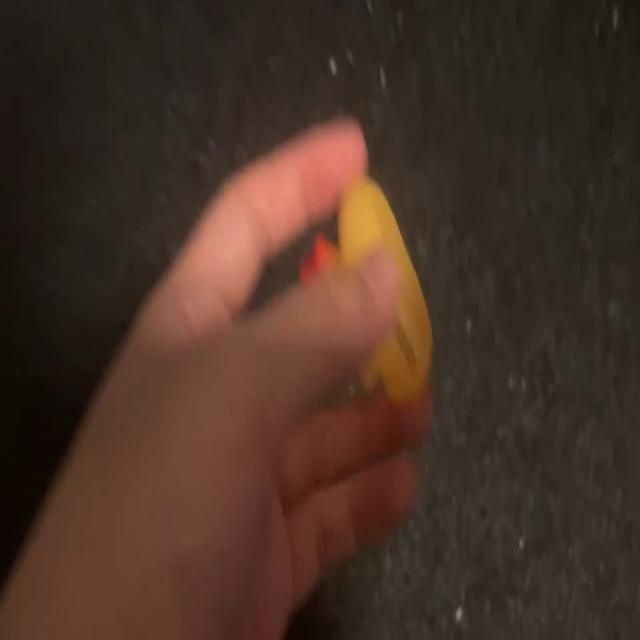rubber-duck: (300, 176, 430, 405)
